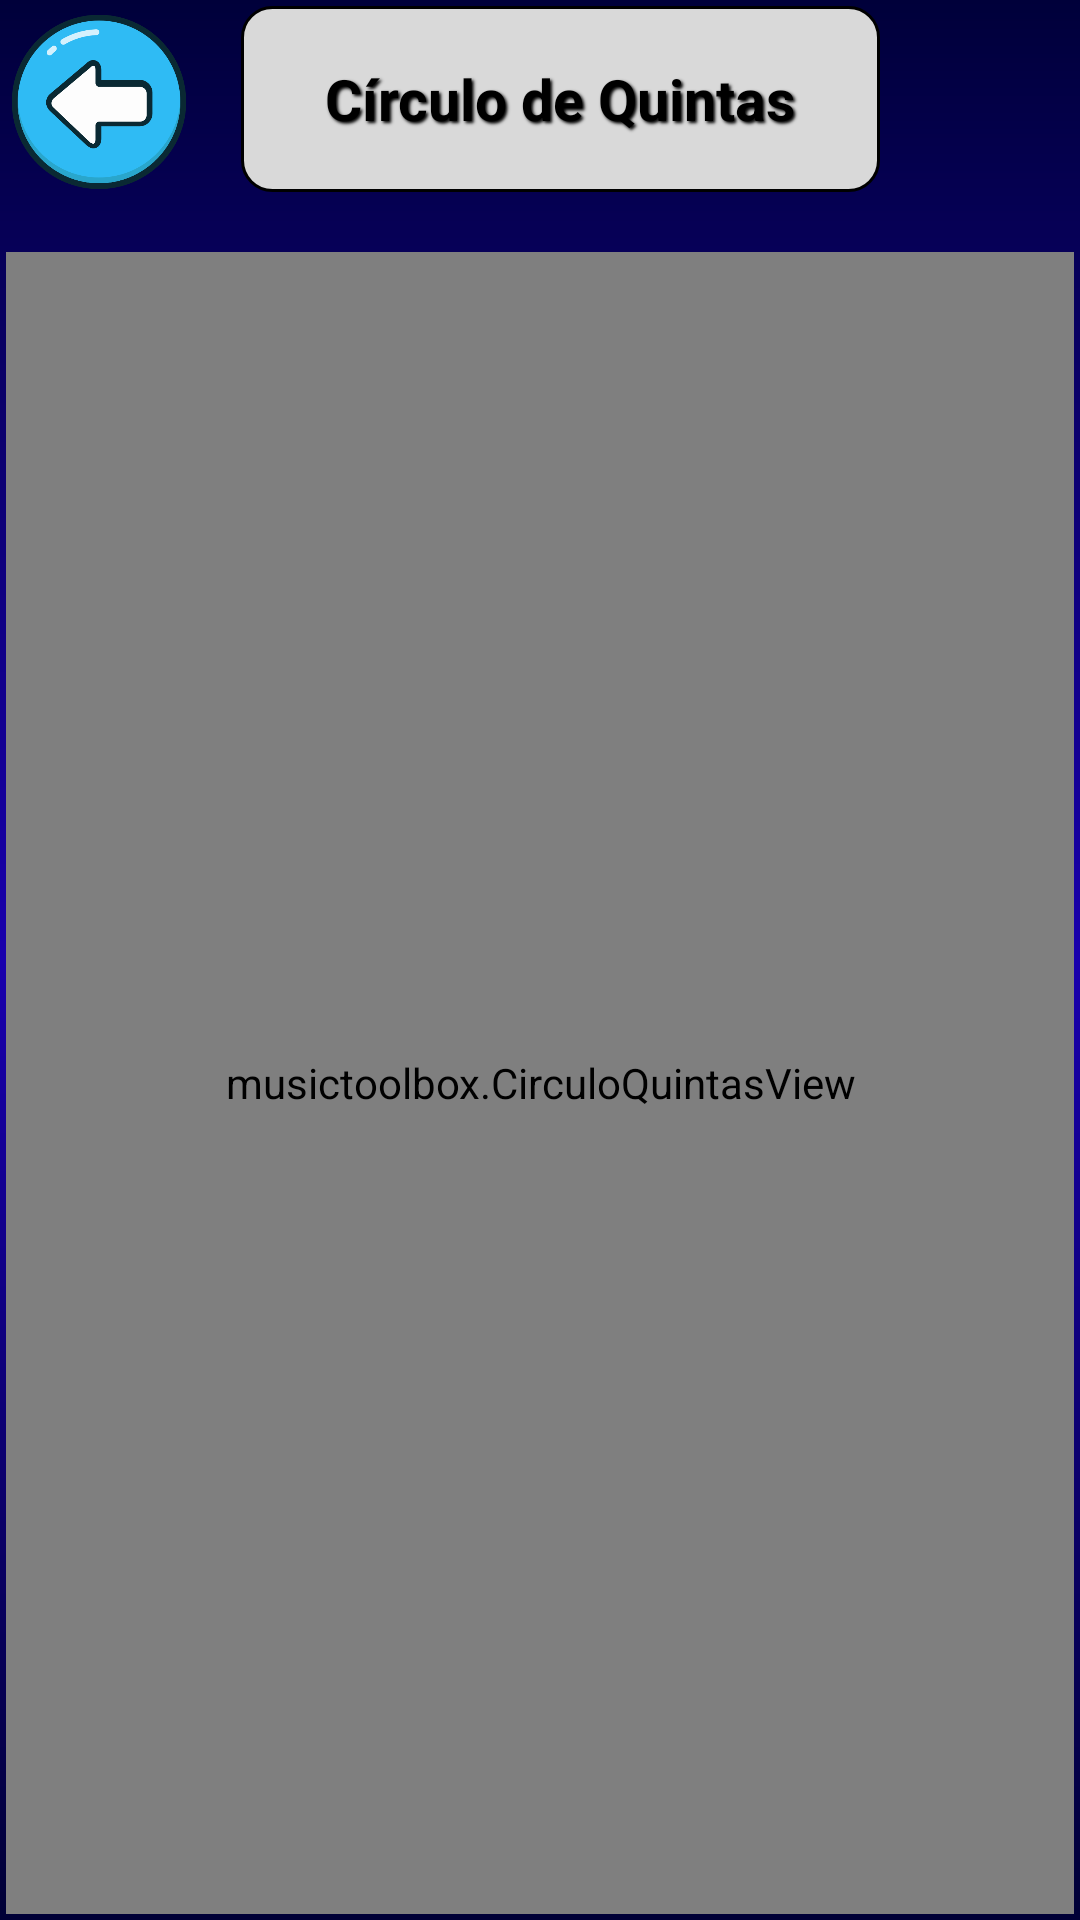

Where icons sit on this 1080px x 1920px app screen, as (x1, y1, x2, y2):
arrow regresar: (12, 15, 186, 189)
